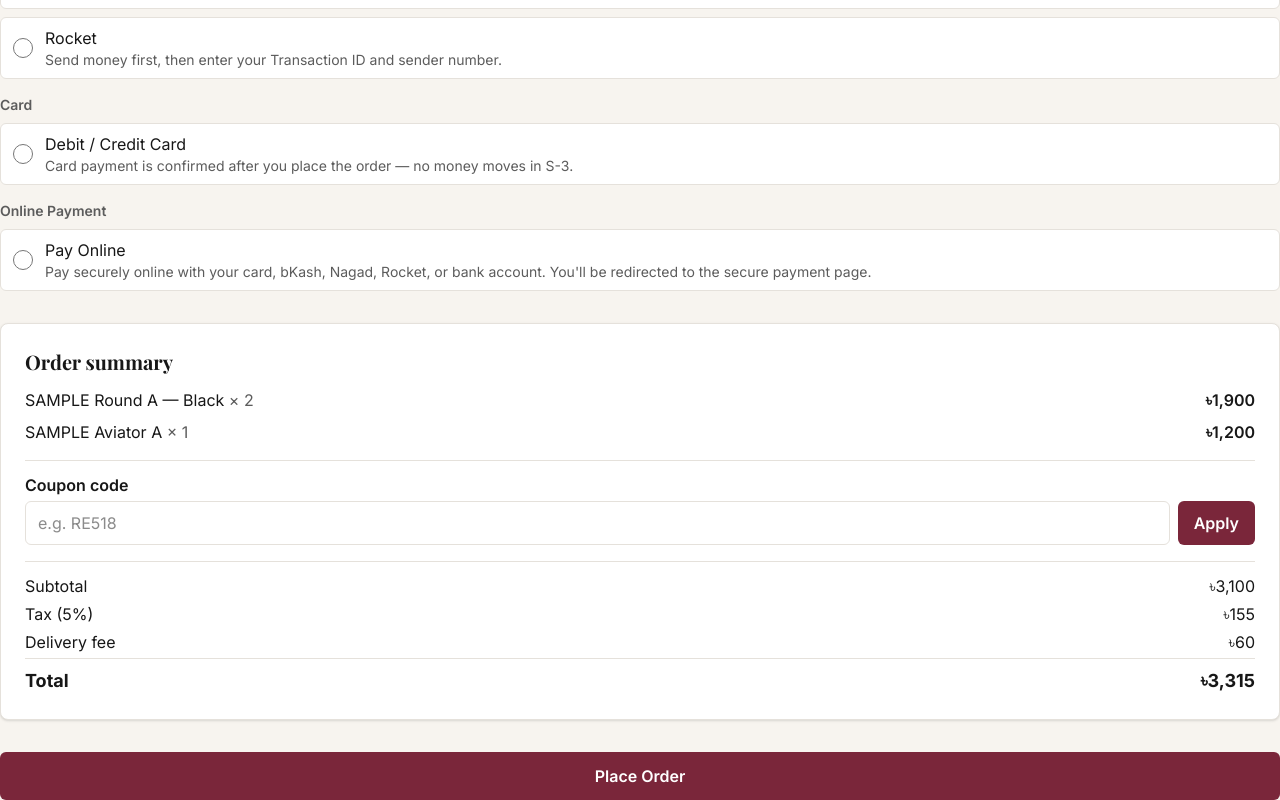
Test case: CheckoutForm › a coupon error at place order surfaces the message and clears the applied code
(page scrolled)
Type "RE518" into the field labelled "Coupon code" at (597, 523), box [25,501,1170,545]
Click the button with aria-label "Apply coupon code" at (1216, 523), box [1178,501,1255,545]
(page scrolled)
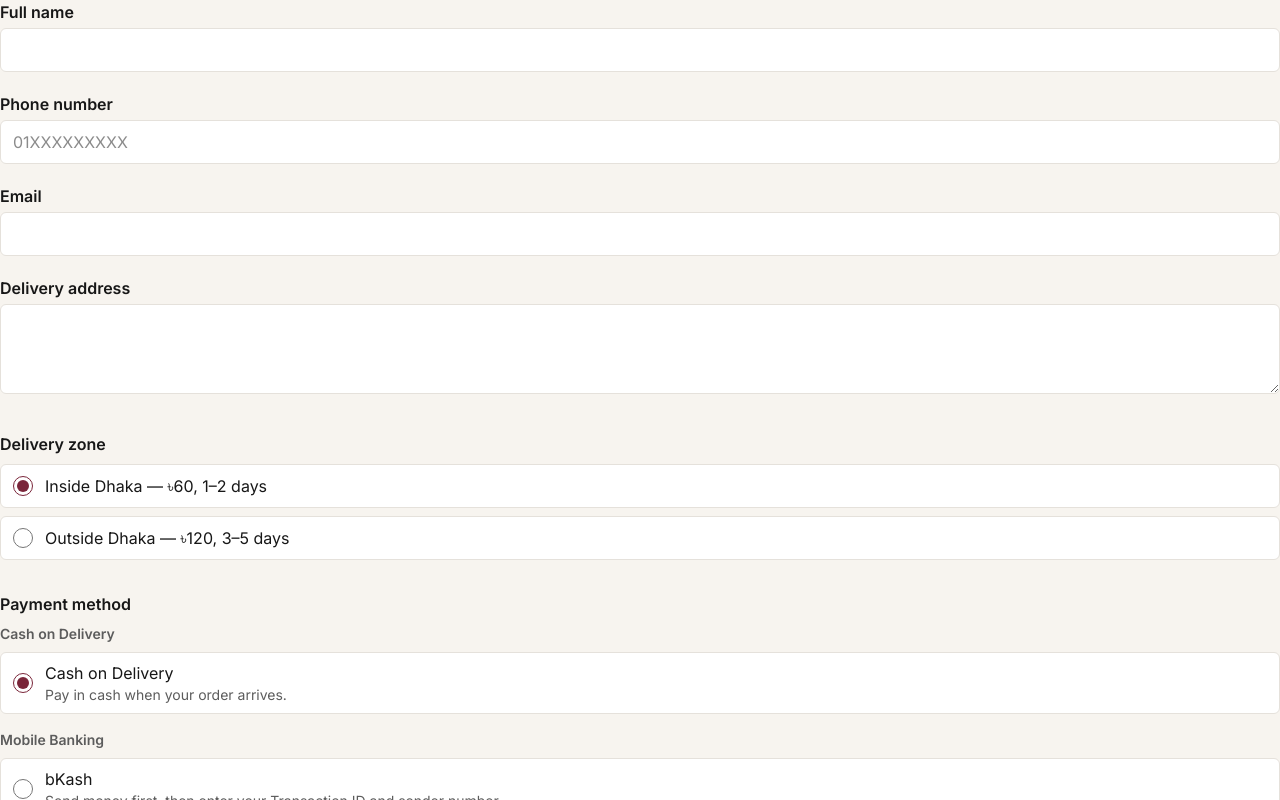
Type "Rabby Hasan" into the field labelled "Full name" at (640, 50), box [0,28,1279,72]
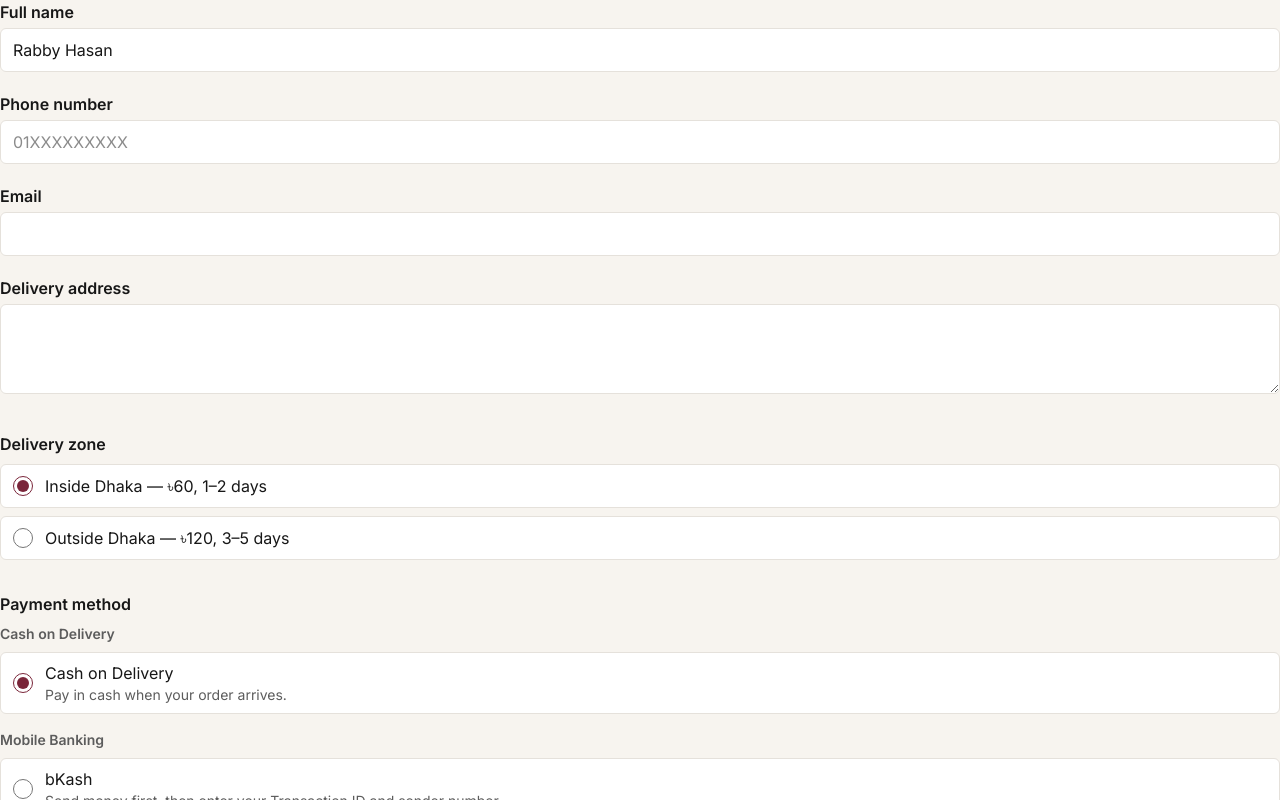
Type "+8801712345678" into the field labelled "Phone number" at (640, 142), box [0,120,1279,164]
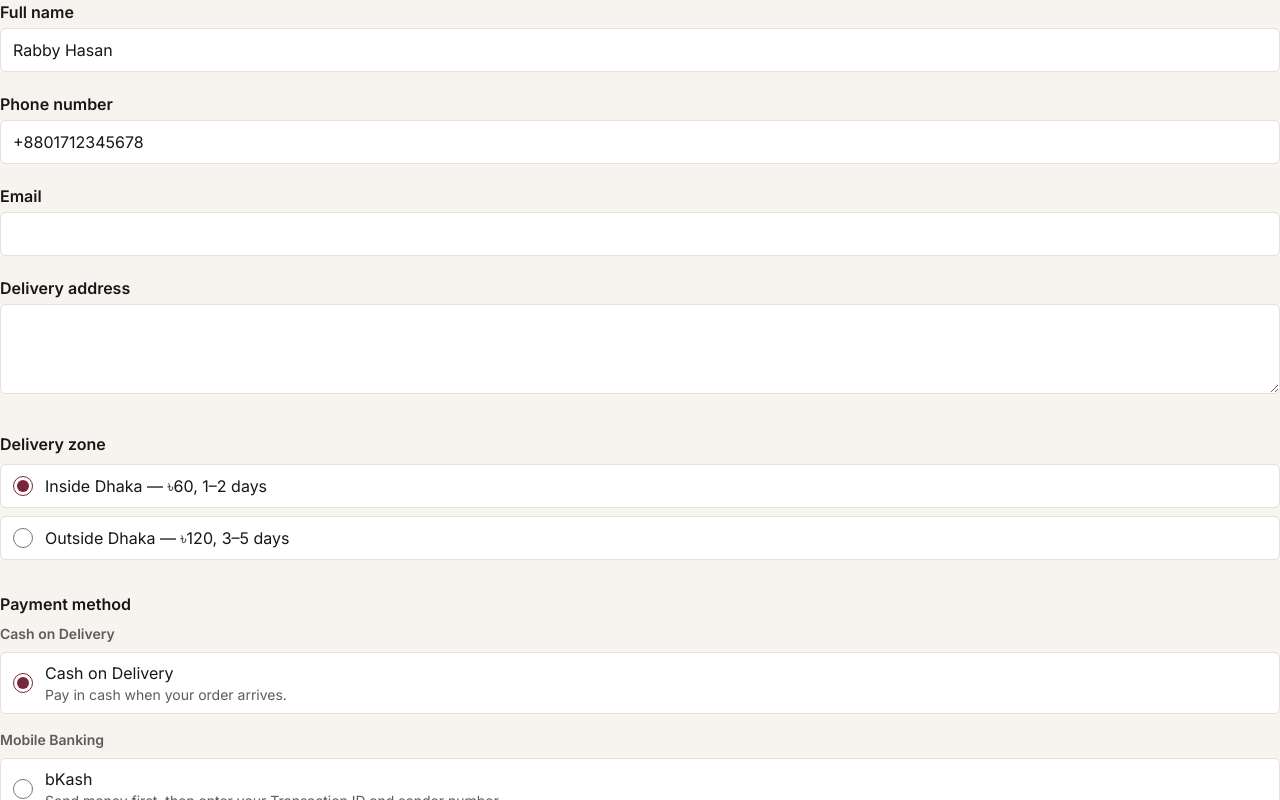
Type "rabby@example.com" into the field labelled "Email" at (640, 234), box [0,212,1279,256]
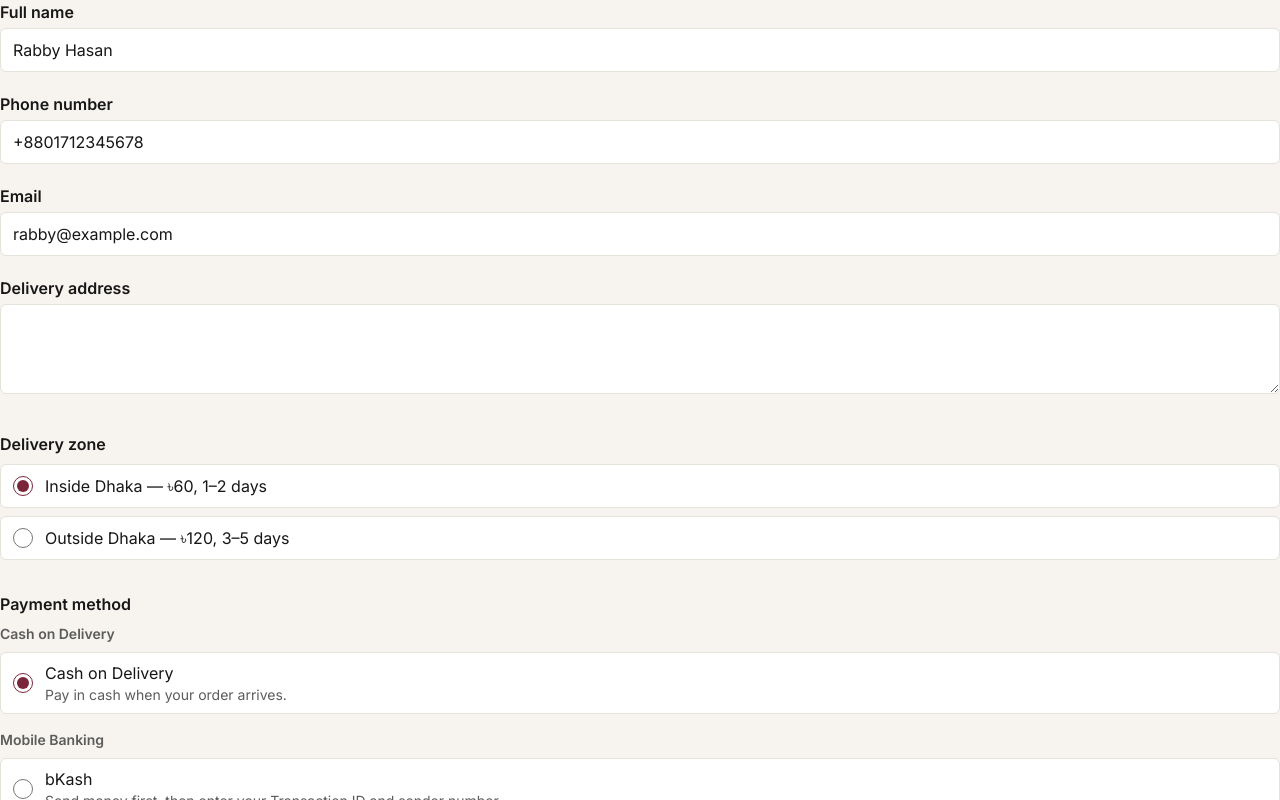
Type "House 12, Road 5, Dhanmondi, Dhaka" into the text box labelled "Delivery address" at (640, 349), box [0,304,1279,394]
(page scrolled)
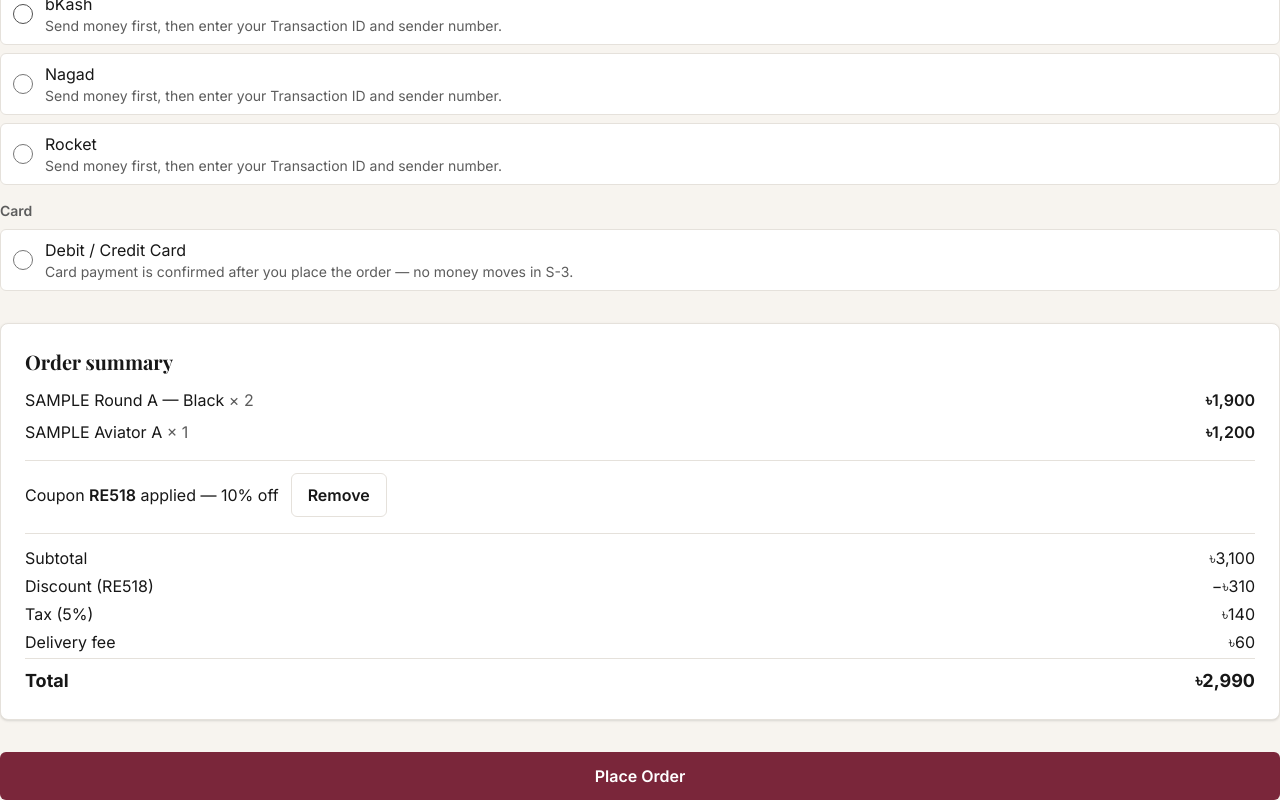
Click the button "Place Order" at (640, 776), box [0,752,1279,799]
(page scrolled)
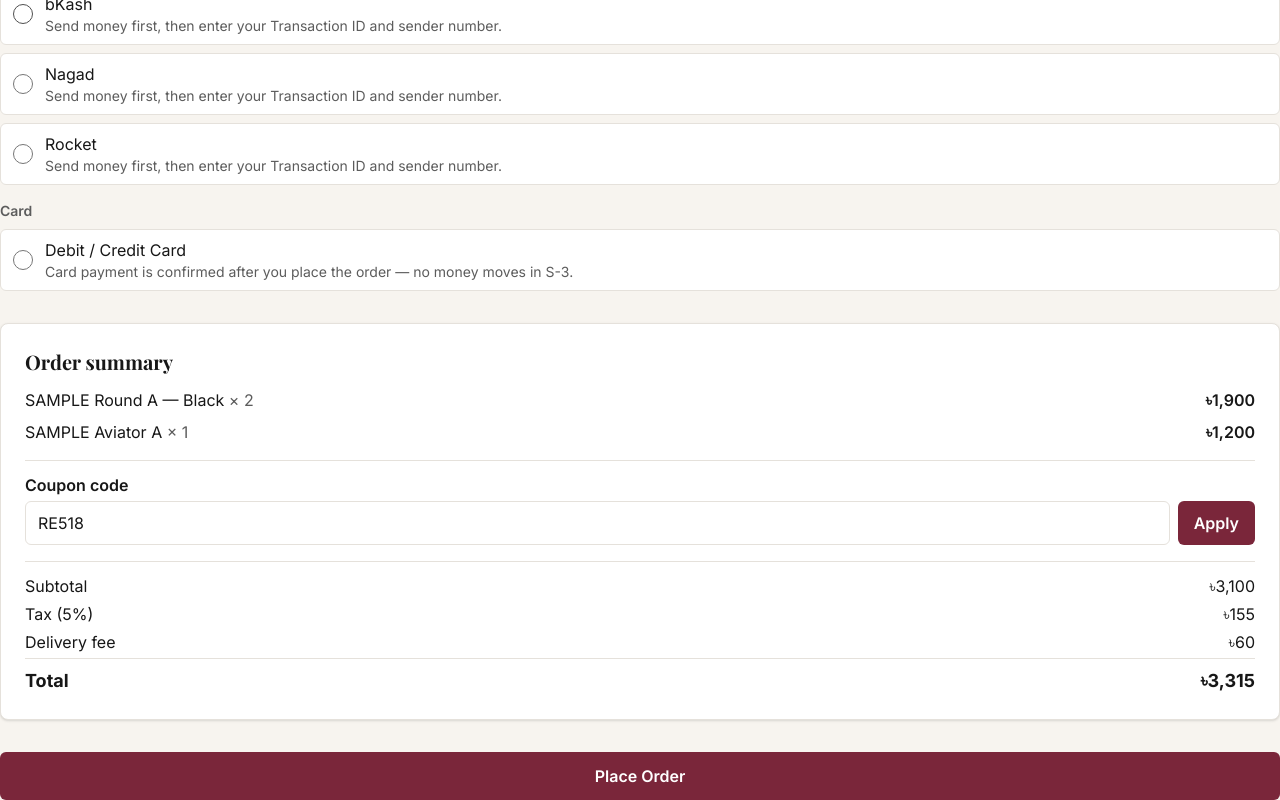
Now the text "Discount (RE518)" is gone
Now the text "৳3,315" is shown, box [1201,667,1255,695]
